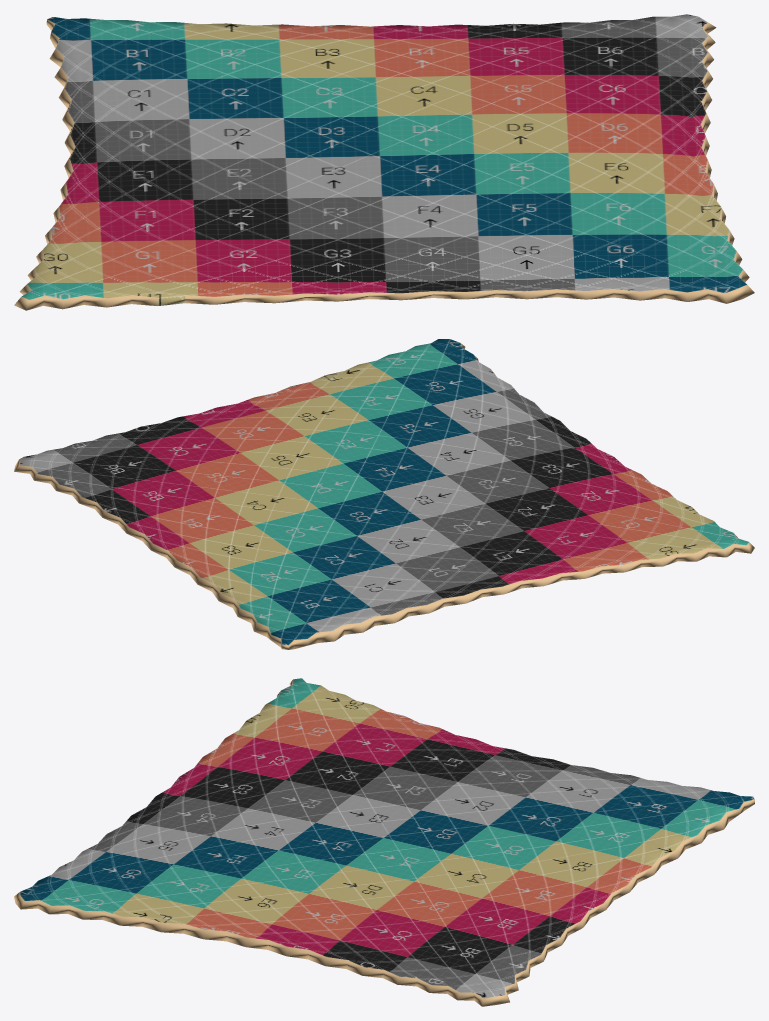
Rendered from Picnic.fbx.
3 views of the same model, one above another, from view 1: azimuth 30°, elevation 25°; view 2: azimuth 150°, elevation 25°; view 3: azimuth 270°, elevation 25° (orthographic). The views are drawn at different scales.
Parts seen in each view (by area): view 1: Picnic; view 2: Picnic; view 3: Picnic.
Boxes of the visible parts, x1,y1,x2,y2 form: Picnic: [14, 14, 754, 310]; Picnic: [14, 339, 754, 649]; Picnic: [14, 678, 754, 1006].
Size of the model in its own units: 743 by 12.32 by 717.
